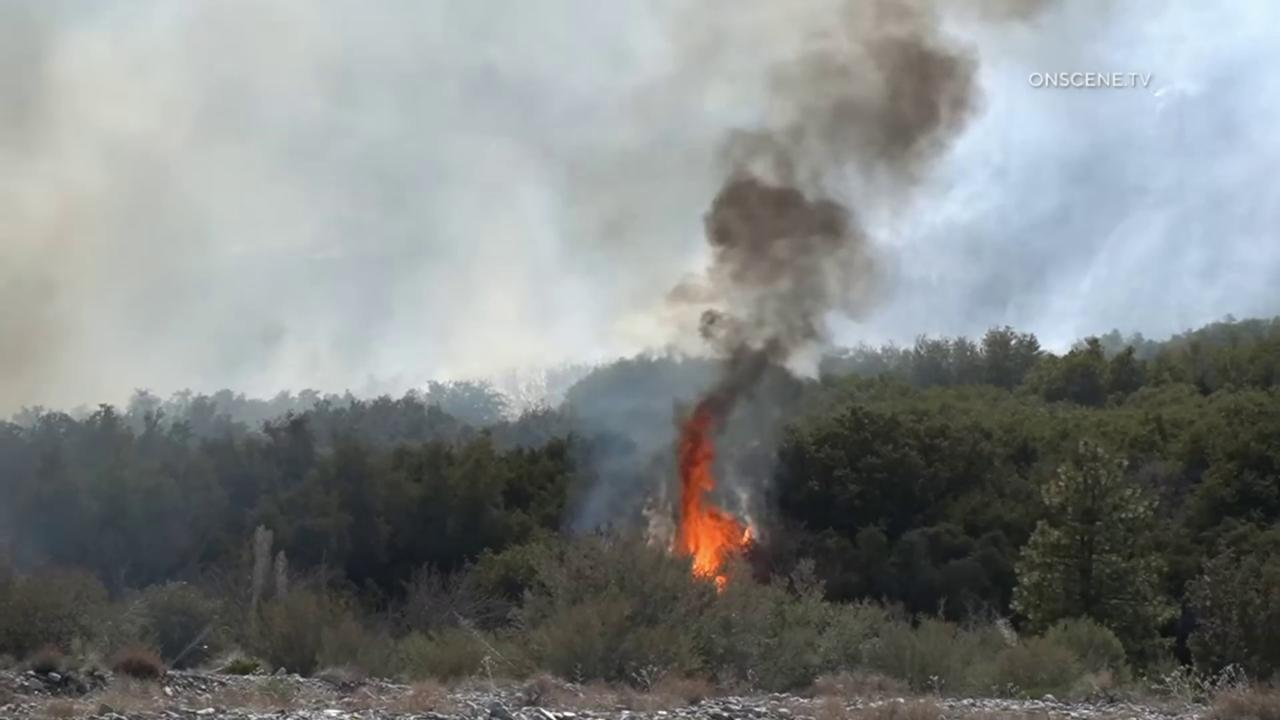fire: (675, 408, 752, 594)
smoke: (0, 0, 1280, 524)
